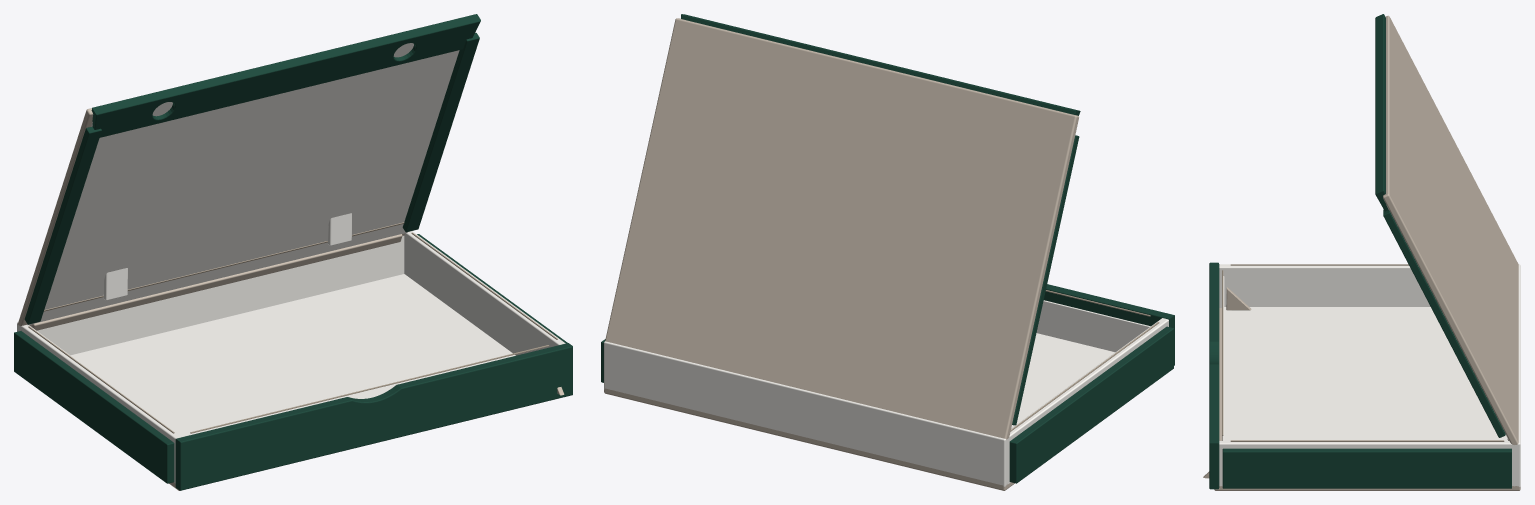
Rendered from kehong-reference-pizza-box.glb.
3 renders of one model, left to right at view 1: azimuth 30°, elevation 25°; view 2: azimuth 150°, elevation 25°; view 3: azimuth 270°, elevation 25°, orthographic. The views are drawn at different scales.
Visible parts, largest first — view 1: lid white inner sheet, food-contact base liner, front deep green wall with thumb notch, perforated deep green closure flap, rear hinge wall, left printed outer return, right inner tray wall, left folded deep green lid return, right folded deep green lid return, rear hinge barrel, left inner tray wall, lid paperboard edge core (+4 smaller); view 2: lid paperboard edge core, rear hinge wall, left printed outer return, food-contact base liner, front white inner face, perforated deep green closure flap, lower tray substrate, front deep green wall with thumb notch, left inner tray wall, left folded deep green lid return; view 3: food-contact base liner, lid paperboard edge core, right printed outer return, left inner tray wall, front deep green wall with thumb notch, right inner tray wall, right folded deep green lid return, perforated deep green closure flap, lower tray substrate, rear hinge wall, right tray fold score, left tray fold score (+1 smaller).
Boxes of the visible parts, box(x1,y1,x2,y2) form: lid white inner sheet: box(27, 43, 459, 324); food-contact base liner: box(71, 274, 515, 436); front deep green wall with thumb notch: box(175, 343, 572, 490); perforated deep green closure flap: box(91, 14, 480, 137); rear hinge wall: box(17, 235, 404, 355); left printed outer return: box(14, 331, 174, 483); right inner tray wall: box(404, 231, 565, 355); left folded deep green lid return: box(24, 127, 101, 324); right folded deep green lid return: box(402, 33, 479, 232); rear hinge barrel: box(31, 234, 402, 330); left inner tray wall: box(18, 325, 181, 483); lid paperboard edge core: box(18, 32, 475, 326); lid paperboard edge core: box(605, 18, 1078, 439); rear hinge wall: box(604, 341, 1006, 486); left printed outer return: box(1009, 326, 1173, 483); food-contact base liner: box(1011, 333, 1114, 428); front white inner face: box(1036, 300, 1150, 352); perforated deep green closure flap: box(681, 14, 1080, 115); lower tray substrate: box(604, 388, 1014, 490); front deep green wall with thumb notch: box(1044, 284, 1174, 365); left inner tray wall: box(1007, 318, 1168, 484); left folded deep green lid return: box(1012, 135, 1079, 425); food-contact base liner: box(1222, 307, 1507, 440); lid paperboard edge core: box(1383, 15, 1518, 444); right printed outer return: box(1222, 448, 1511, 488); left inner tray wall: box(1219, 264, 1430, 307); front deep green wall with thumb notch: box(1209, 262, 1219, 489); right inner tray wall: box(1219, 441, 1516, 486); right folded deep green lid return: box(1383, 209, 1505, 437); perforated deep green closure flap: box(1375, 14, 1388, 211); lower tray substrate: box(1214, 308, 1520, 490); rear hinge wall: box(1514, 264, 1520, 487); right tray fold score: box(1230, 440, 1504, 441); left tray fold score: box(1230, 264, 1408, 265).
Bounding box in the file's own units: 6.22 × 4.66 × 4.47.
